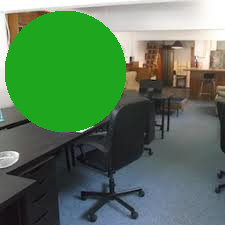focus: (5, 10, 131, 138)
